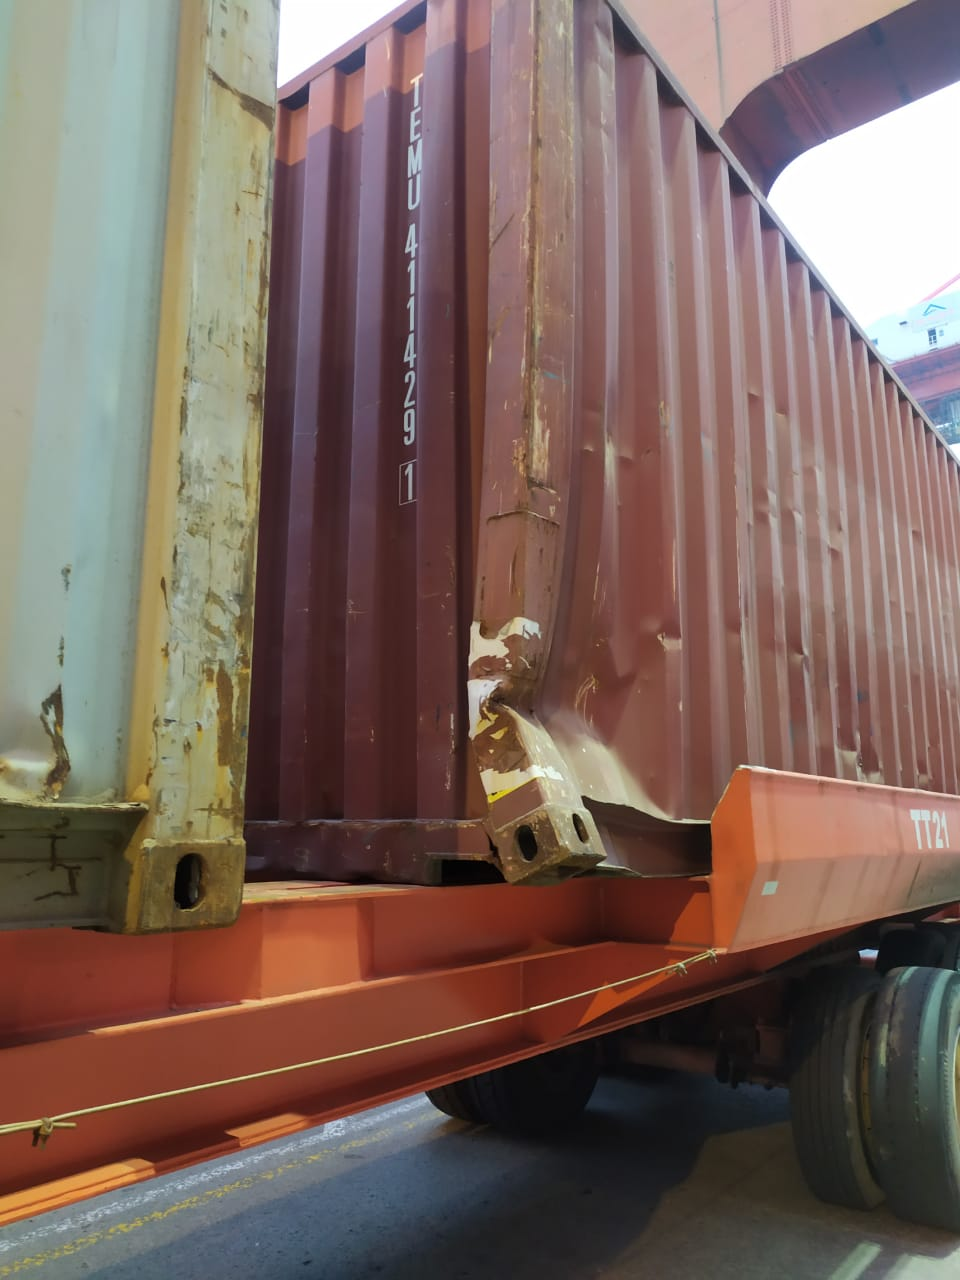dented: (456, 481, 662, 857)
